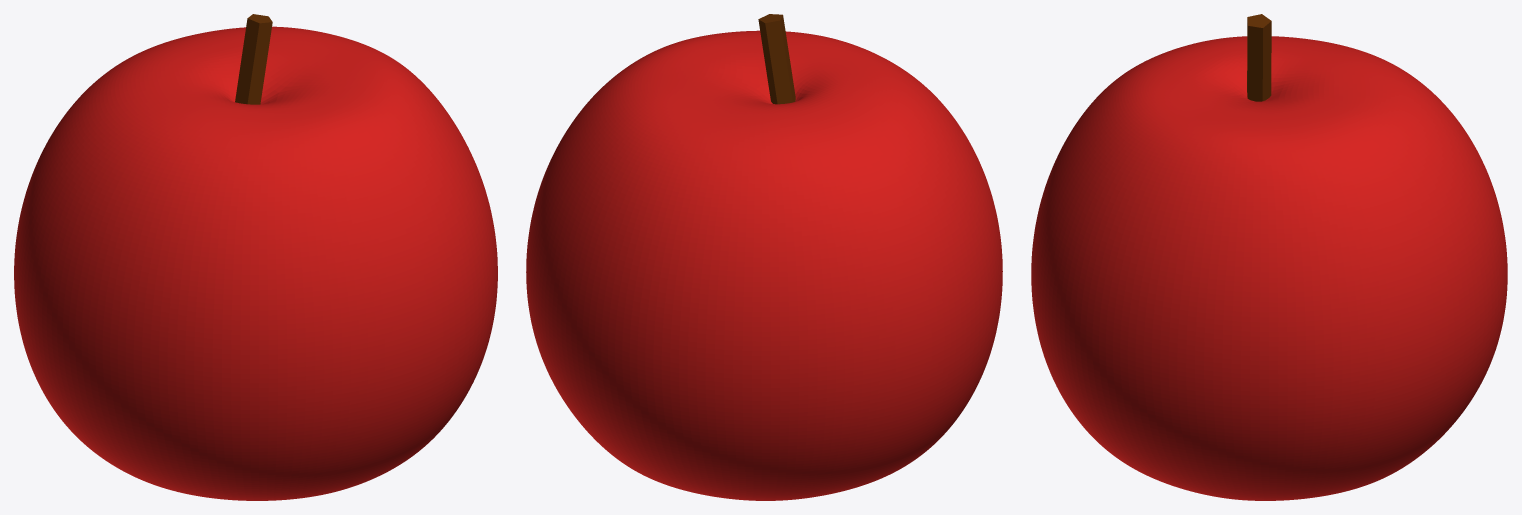
The model's file is apple.fbx.
3 renders of one model, left to right at view 1: azimuth 30°, elevation 25°; view 2: azimuth 150°, elevation 25°; view 3: azimuth 270°, elevation 25°, orthographic.
Visible parts, largest first — view 1: Sphere, Cylinder; view 2: Sphere, Cylinder; view 3: Sphere, Cylinder.
Part boxes in pixels (x1=…): Sphere: x1=14, y1=26, x2=497, y2=500; Cylinder: x1=235, y1=14, x2=272, y2=104; Sphere: x1=526, y1=30, x2=1002, y2=500; Cylinder: x1=758, y1=14, x2=795, y2=104; Sphere: x1=1031, y1=36, x2=1507, y2=500; Cylinder: x1=1247, y1=14, x2=1271, y2=101.
Size of the model in its own units: 143 by 146 by 143.
